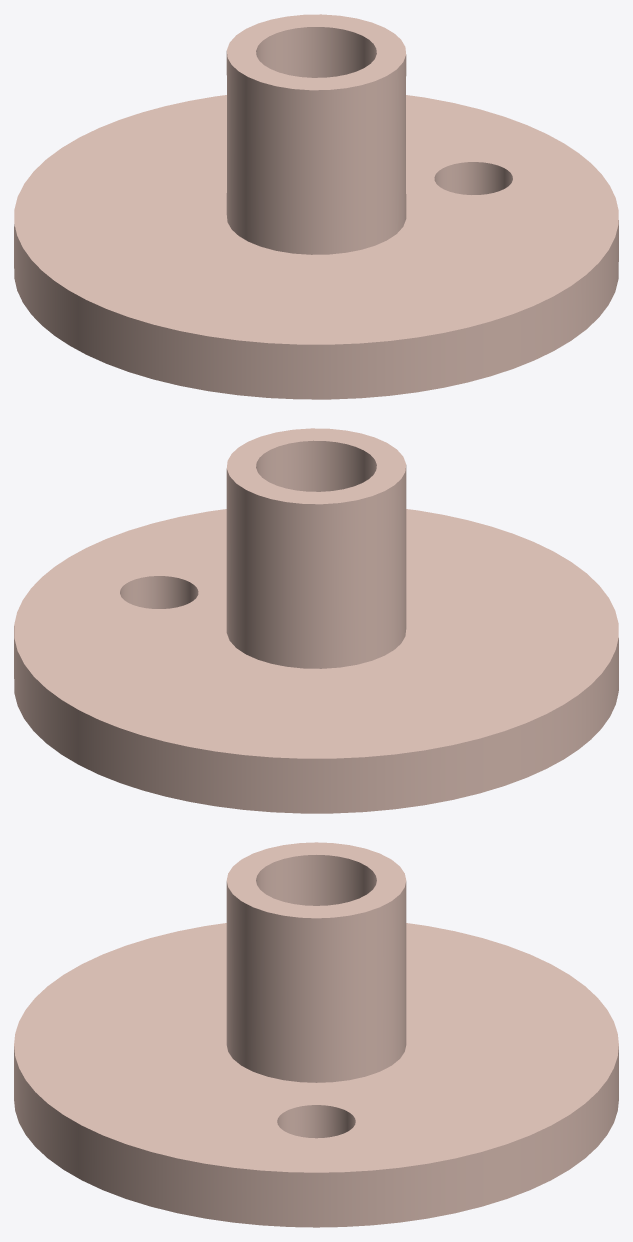
Rendered from gear.fbx.
3 views of the same model, one above another, from view 1: azimuth 30°, elevation 25°; view 2: azimuth 150°, elevation 25°; view 3: azimuth 270°, elevation 25° (orthographic).
Parts seen in each view (by area): view 1: Body1; view 2: Body1; view 3: Body1.
Boxes of the visible parts, box(x1,y1,x2,y2) form: Body1: box(14, 14, 618, 399); Body1: box(14, 428, 618, 813); Body1: box(14, 842, 618, 1227).
Size of the model in its own units: 0.1 by 0.04 by 0.1.
